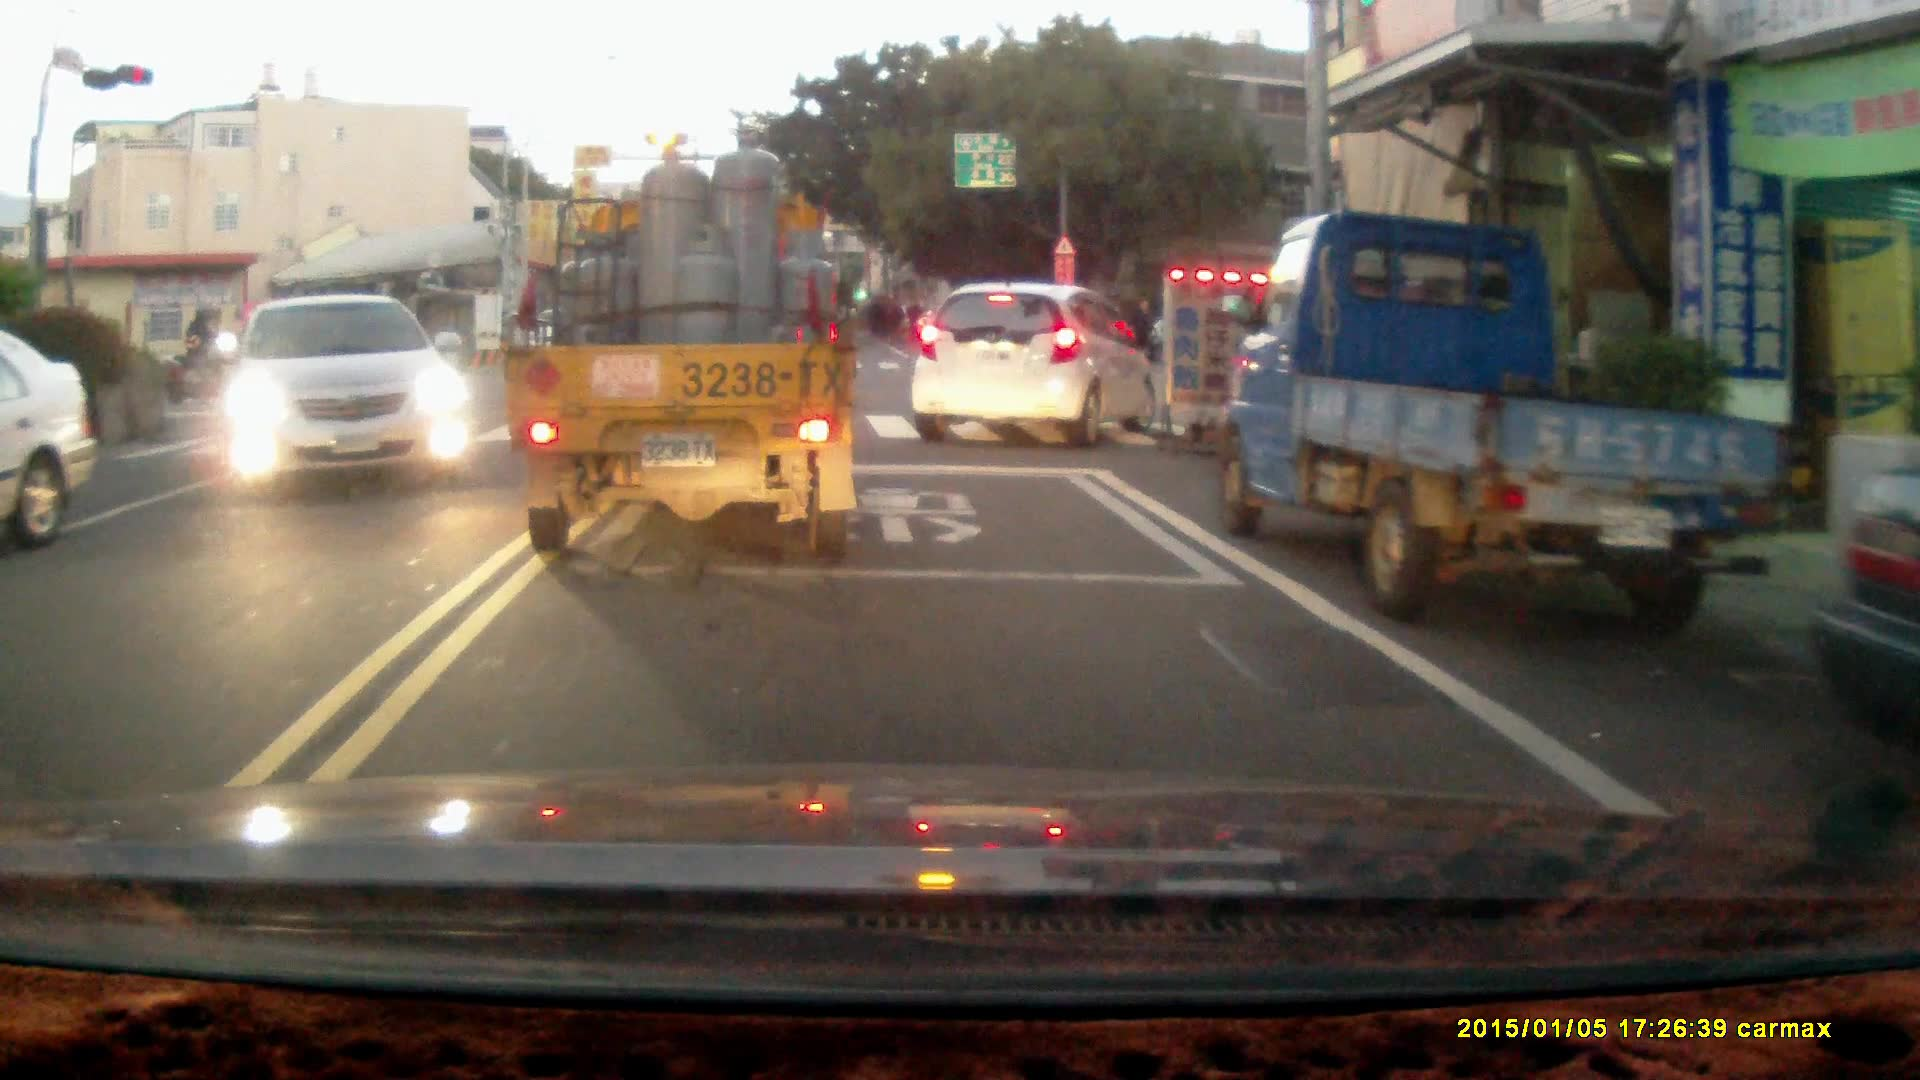rider: (161, 308, 245, 405)
vehicle: (1223, 203, 1794, 623), (515, 126, 865, 557), (224, 297, 474, 493), (907, 284, 1161, 446), (1, 333, 102, 558)
